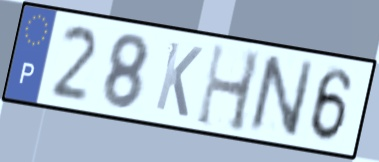2: (49, 22, 100, 101)
6: (308, 65, 357, 146)
8: (97, 31, 152, 112)
H: (193, 39, 265, 136)
K: (152, 38, 206, 121)
N: (246, 52, 318, 140)
